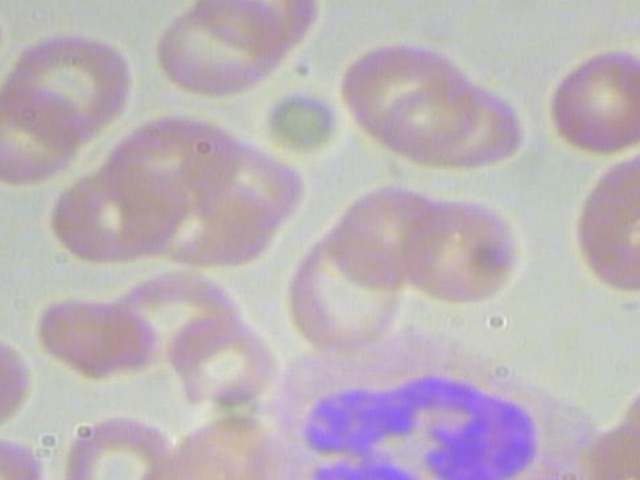RBC: (331, 29, 480, 153), (141, 0, 313, 106), (388, 193, 537, 310), (44, 159, 180, 266), (3, 26, 130, 134), (179, 140, 317, 232), (532, 48, 640, 162), (156, 314, 281, 410), (563, 148, 640, 300), (34, 294, 159, 383), (149, 182, 278, 268), (0, 84, 95, 190), (601, 331, 603, 333)
WBC: (250, 320, 610, 480)
